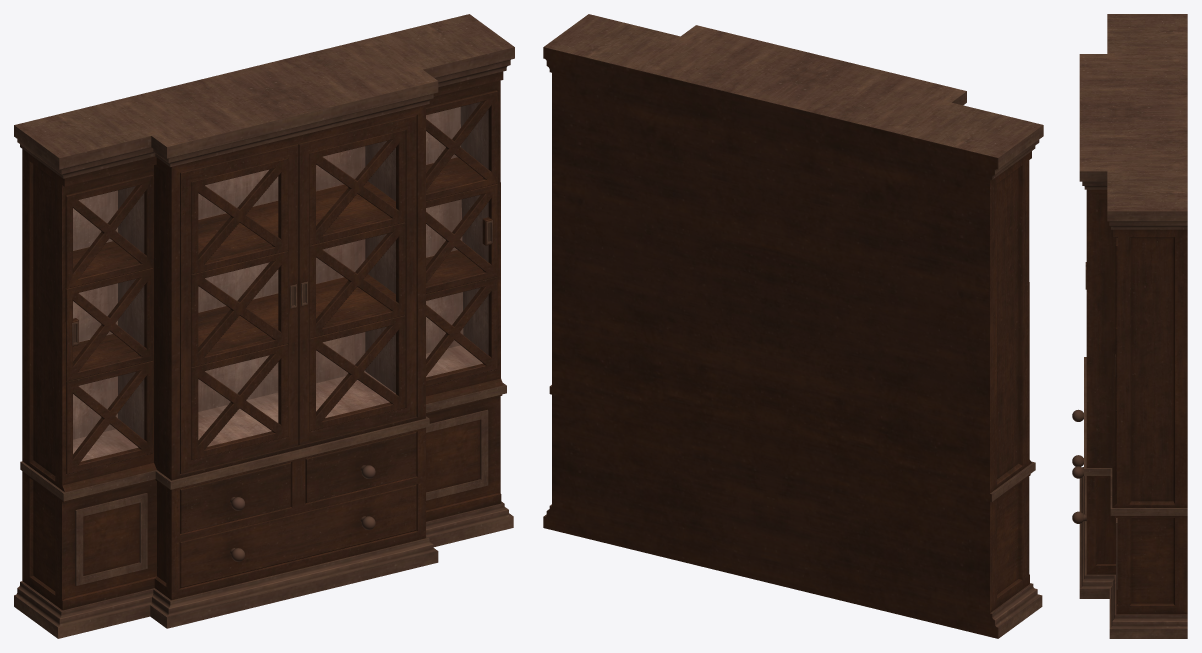
File: Storage.fbx
3 views of the same model, side by side, from view 1: azimuth 30°, elevation 25°; view 2: azimuth 150°, elevation 25°; view 3: azimuth 270°, elevation 25° (orthographic). The views are drawn at different scales.
Parts seen in each view (by area): view 1: Object_3; view 2: Object_3; view 3: Object_3.
Part boxes in pixels (bbox=[...]): Object_3: bbox=[14, 14, 514, 638]; Object_3: bbox=[543, 14, 1043, 638]; Object_3: bbox=[1072, 14, 1187, 638].
Bounding box in the file's own units: 3048 × 3080 × 755.
1 material, 1 textured.
